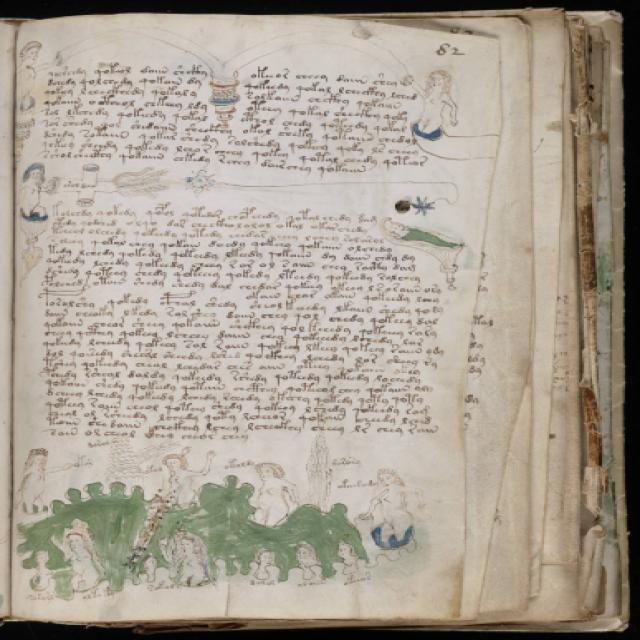person: (361, 467, 427, 546), (14, 445, 75, 514), (246, 460, 304, 530), (162, 444, 219, 511), (409, 66, 458, 138), (4, 38, 47, 120), (15, 159, 62, 221), (63, 530, 104, 594), (173, 530, 212, 592)
